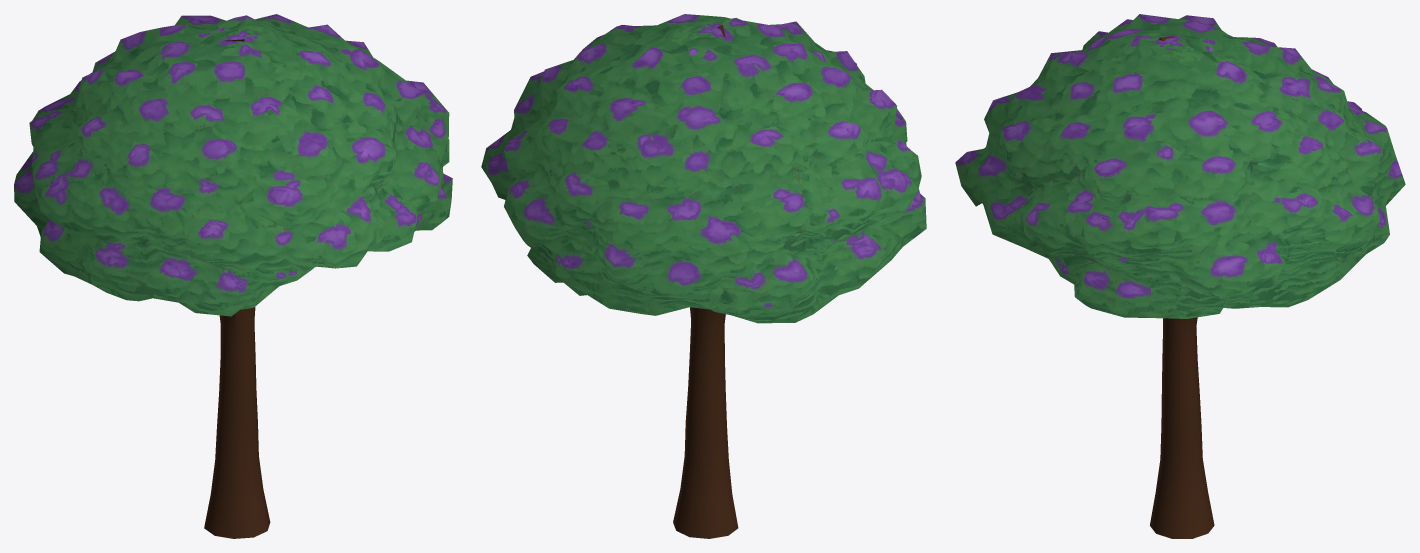
The model's file is tree_round_b.glb.
3 views of the same model, side by side, from view 1: azimuth 30°, elevation 25°; view 2: azimuth 150°, elevation 25°; view 3: azimuth 270°, elevation 25° (orthographic). The views are drawn at different scales.
Visible parts, largest first — view 1: body; view 2: body; view 3: body.
Part boxes in pixels (x1=…): body: x1=14, y1=14, x2=452, y2=538; body: x1=481, y1=14, x2=926, y2=538; body: x1=955, y1=14, x2=1405, y2=538.
Bounding box in the file's own units: 3.67 × 4.39 × 3.69.
2 materials, 2 textured.
